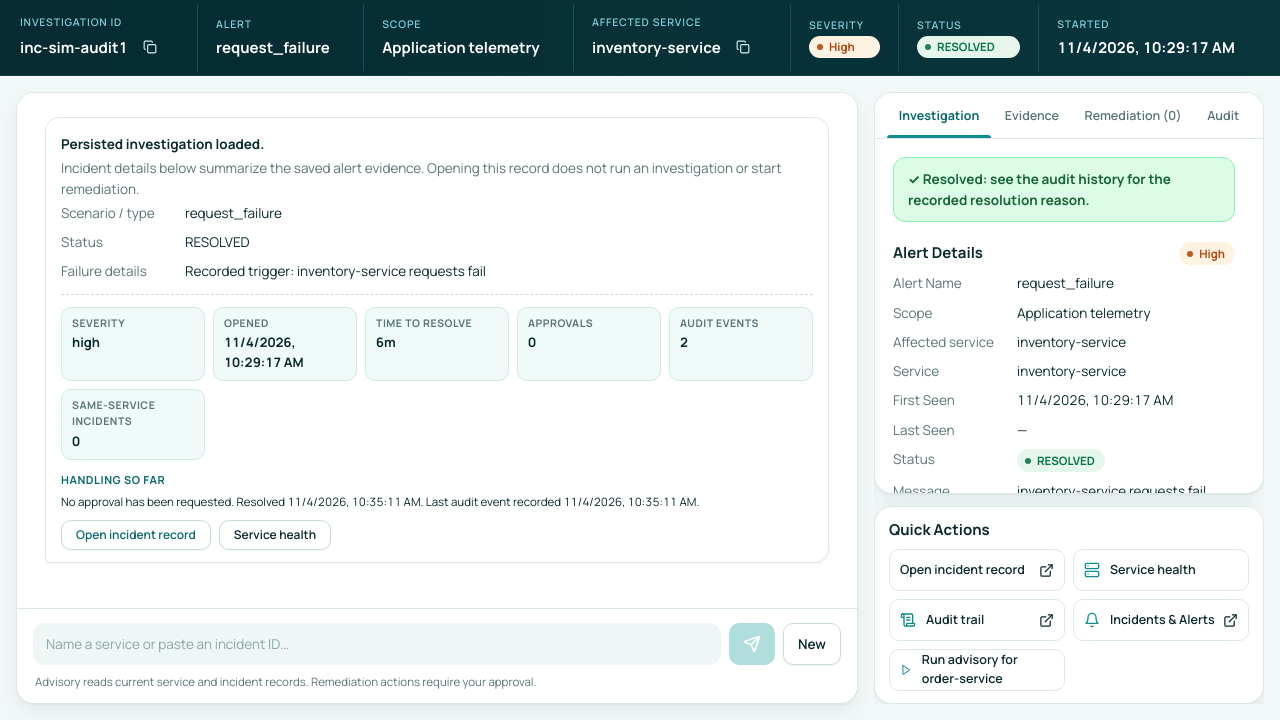
Scenario: Console right-hand Audit tab › shows the same full lifecycle flow as the chat audit, not just two raw events
This screenshot has width=1280, height=720.
What coordinates should you click on to do the following:
click the tab "Audit"
I would click on:
 (1223, 116)
Its box is [1195,93,1251,138].
(page scrolled)
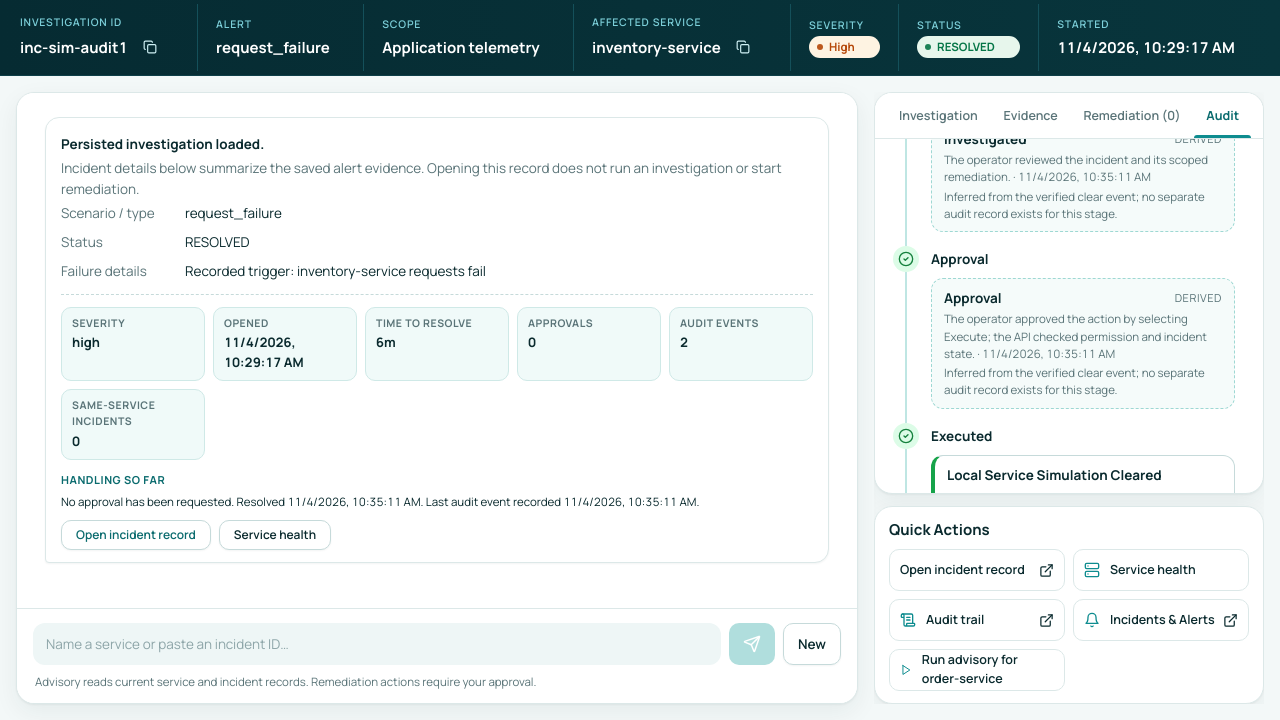
Check: the element labelled "Audit flow" shows "local service simulation cleared", box [947,466,1162,484]
